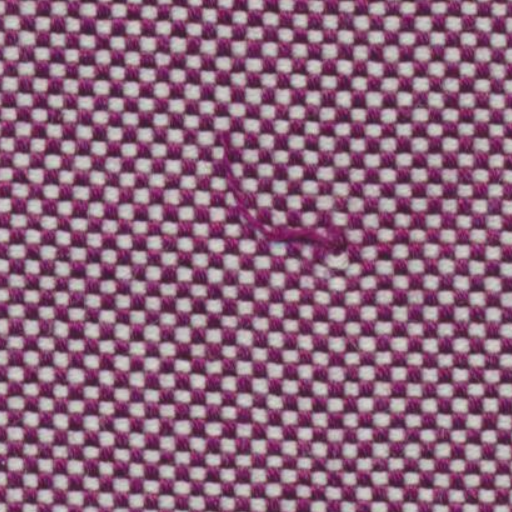DuanSha: (200, 118, 376, 270)
